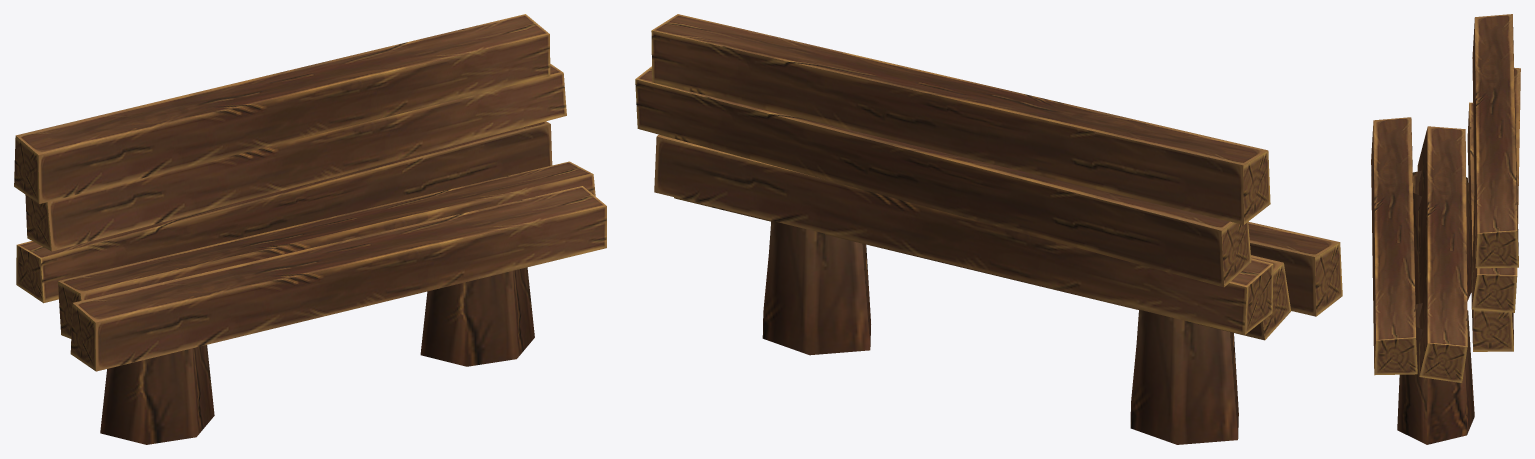
The model's file is wooden_bench.fbx.
3 renders of one model, left to right at view 1: azimuth 30°, elevation 25°; view 2: azimuth 150°, elevation 25°; view 3: azimuth 270°, elevation 25°, orthographic. The views are drawn at different scales.
Parts seen in each view (by area): view 1: wooden_bench; view 2: wooden_bench; view 3: wooden_bench.
Boxes of the visible parts, x1,y1,x2,y2 form: wooden_bench: (14, 14, 606, 444); wooden_bench: (635, 14, 1342, 444); wooden_bench: (1371, 14, 1520, 444).
Bounding box in the file's own units: 2377 × 683 × 1193.
Materials: 1 (1 with a texture image).
